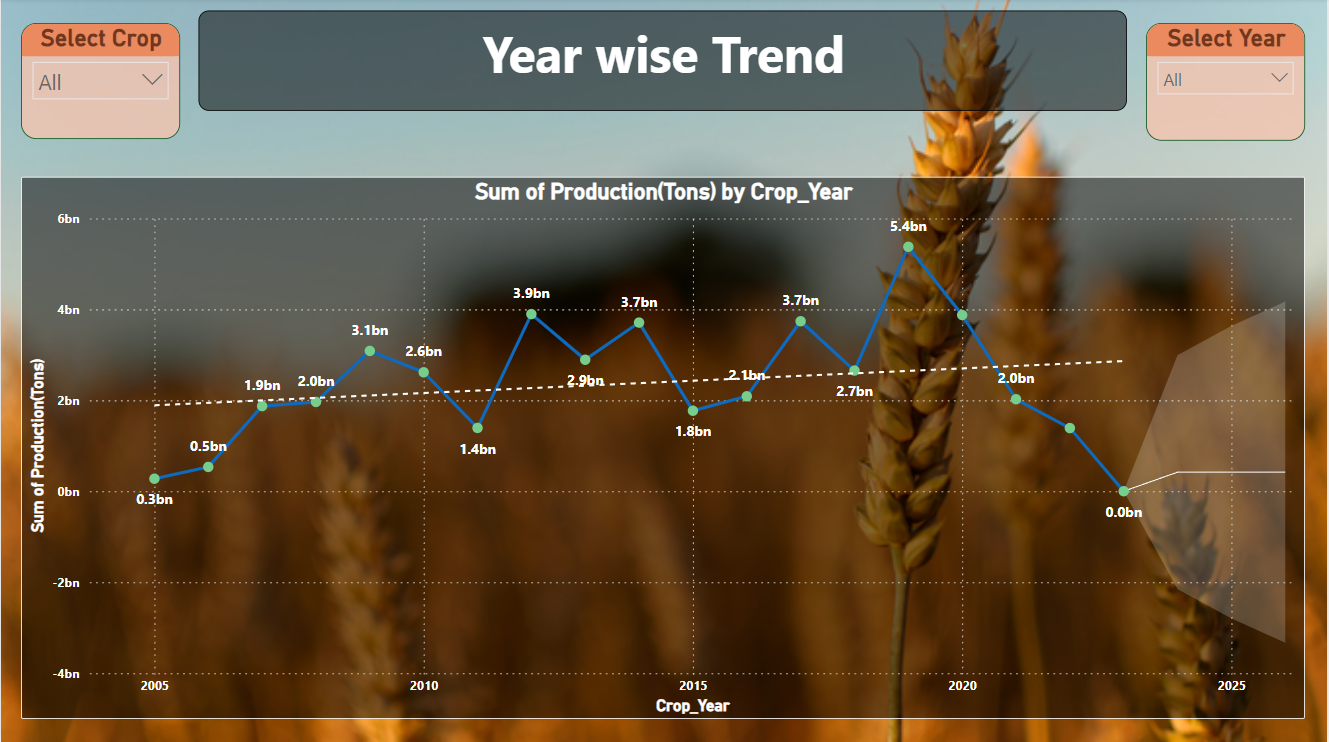

This screenshot's page, from the dashboard's own definition file:
{"tool":"powerbi","page":{"name":"Year wise Trend","canvas":[1280,720],"ordinal":6},"visuals":[{"type":"textbox","box":[190.6,12.1,896.4,96.5],"z":0},{"type":"slicer","title":"Select Crop","fields":{"Values":["apy_1.Crop"]},"box":[19.3,24.1,153.2,112.2],"z":1000},{"type":"slicer","title":"Select Year","fields":{"Values":["apy_1.Crop_Year"]},"box":[1105.1,24.1,153.2,113.4],"z":2000},{"type":"lineChart","fields":{"Category":["apy_1.Crop_Year"],"Y":["Sum(apy_1.Production(Tons))"]},"box":[19.3,172.5,1239,523.6],"z":3000}]}

Visuals, with their boxes in screenshot pixels (x1, y1, x2, y2), scaled from the page's 1280x720 canvas onto the 1329x742 screenshot:
textbox: 198,12,1129,112
"Select Crop" slicer: 20,25,179,140
"Select Year" slicer: 1147,25,1306,142
lineChart - apy_1.Crop_Year x Sum(apy_1.Production(Tons)): 20,178,1306,717
